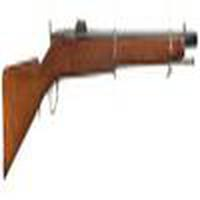gun: (2, 26, 200, 151)
